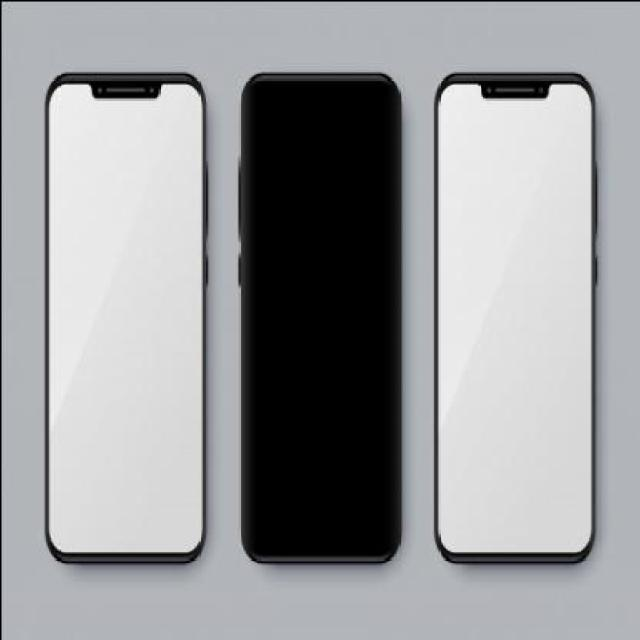phone: (236, 68, 402, 566), (42, 68, 206, 566), (432, 68, 594, 564)
